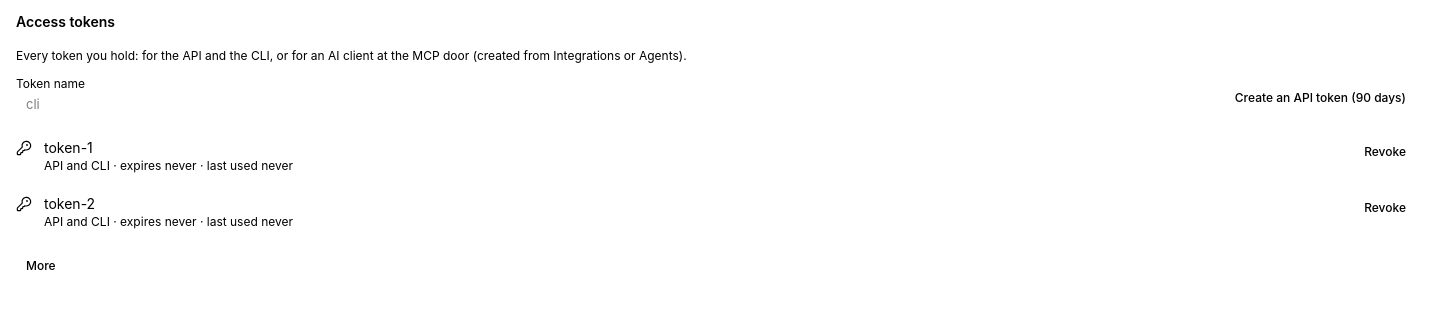
the account's token and session lists page by the server › shows more tokens with More, each once
Check: the number of list items with test id "token" is 2, box 16,128 -> 1416,184; 16,184 -> 1416,240
Click the button "More": (41, 266) 16,252 -> 66,280
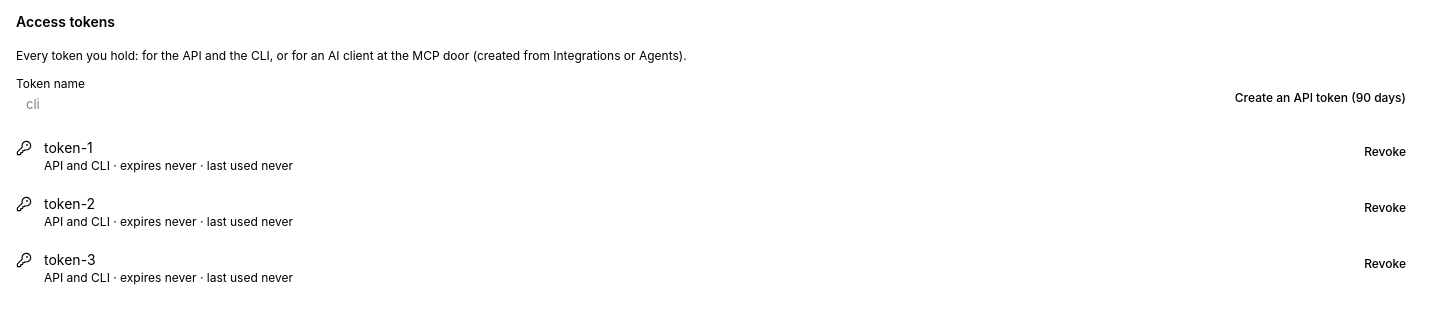
Check: the number of list items with test id "token" is 3, box 16,128 -> 1416,184; 16,184 -> 1416,240; 16,240 -> 1416,296
Check: the button "More" is gone
